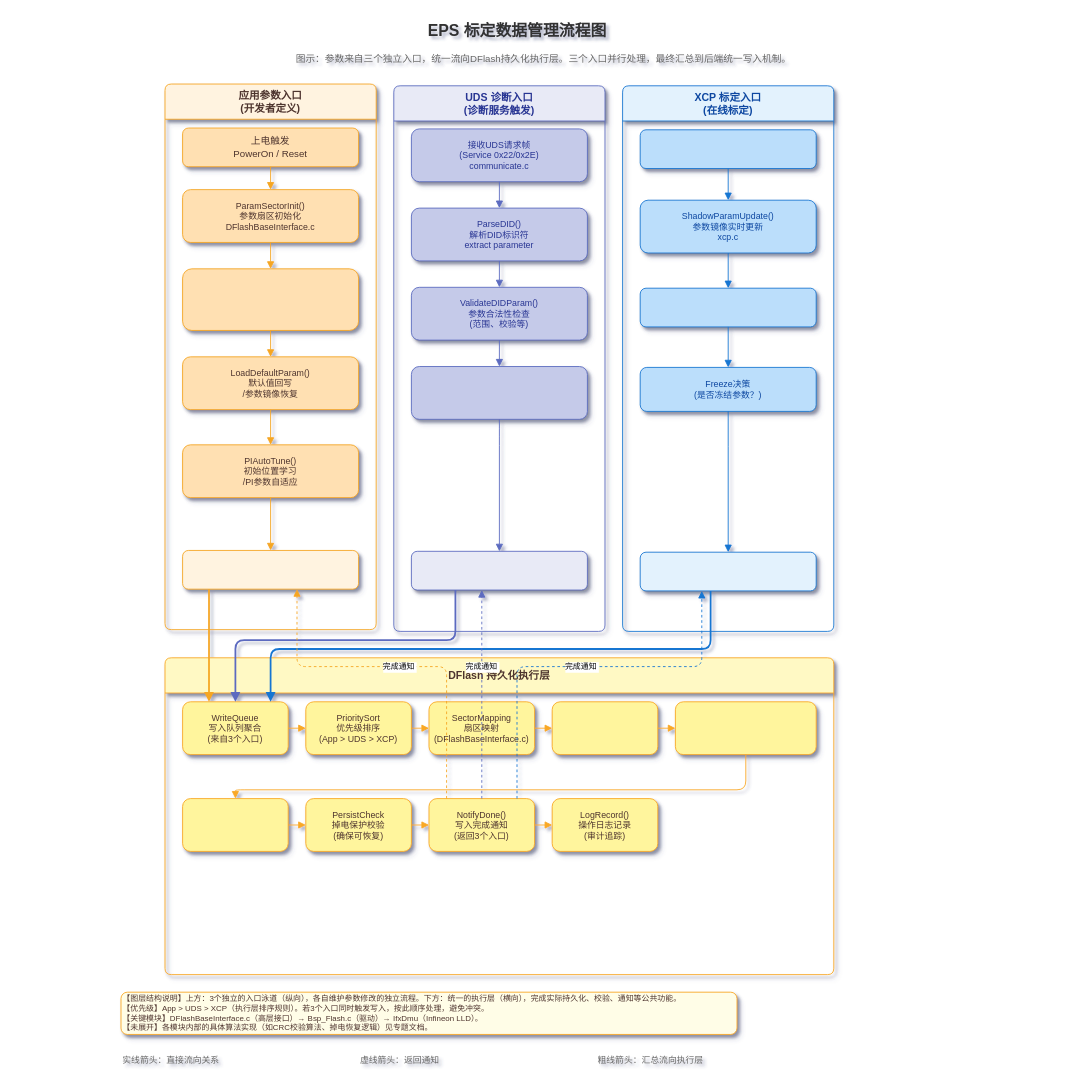
Some shapes in this 1091 by 1087 pixel diagram are drawn without their labels. The shapes that lost their labels are listed below. From the top down, each one's centre as x and y in pixels, then its label:
At point (728, 150): "在线修改参数 (XCP标定工具)".
At point (271, 300): "CheckParamEqual() 参数版本比对 (默认值 vs Flash) DFlashBaseInterface.c".
At point (728, 308): "预览效果 (实时闭环验证)".
At point (500, 393): "ApplyDIDParam() 应用到内存镜像 (当前生效)".
At point (271, 570): "AppParamWrite() 应用参数触发写入".
At point (500, 571): "WriteDidToFlash() UDS诊断参数触发写入".
At point (728, 572): "XcpFreezeToFlash() 冻结参数触发写入".
At point (605, 729): "CRC校验 计算与标记 (data integrity)".
At point (746, 729): "WriteToFlash 实际Flash写入 Bsp_Flash.c IfxDmu(LLD)".
At point (235, 826): "CacheUpdate 参数镜像同步 (内存缓存更新)".
